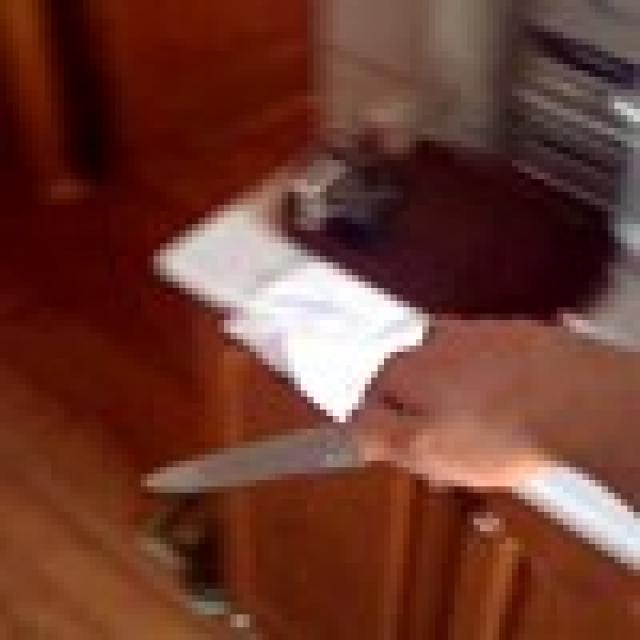knife: (140, 404, 390, 518)
